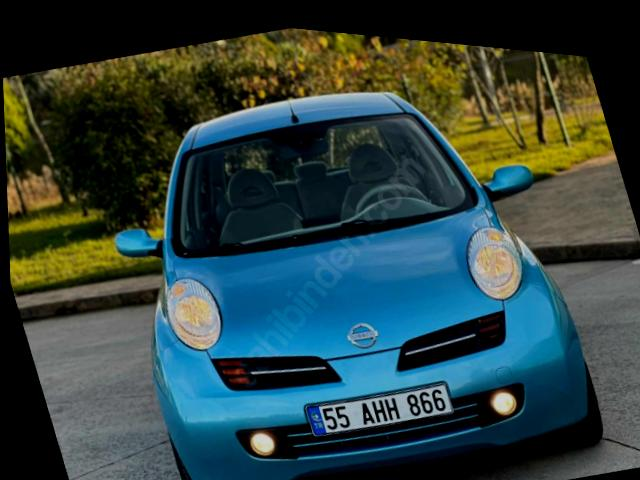plaka: (305, 383, 454, 436)
